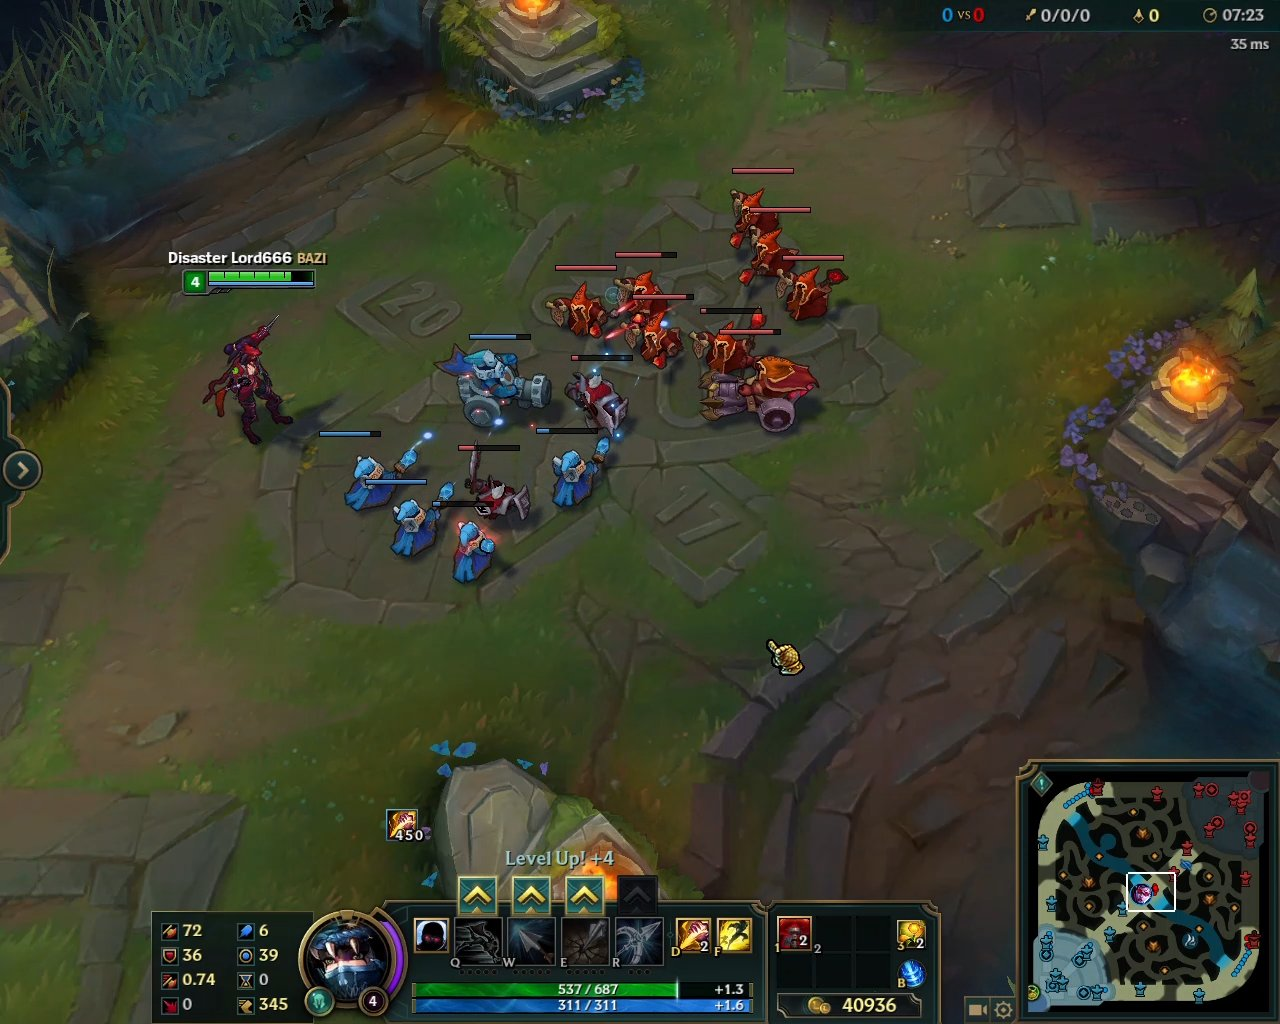EnemyMinion: (693, 328, 820, 438), (451, 441, 535, 527), (560, 354, 635, 449), (737, 206, 810, 287), (727, 166, 797, 248), (623, 292, 693, 372), (544, 263, 616, 341), (772, 255, 848, 326), (615, 250, 679, 326)
Vayne: (197, 310, 300, 453)
